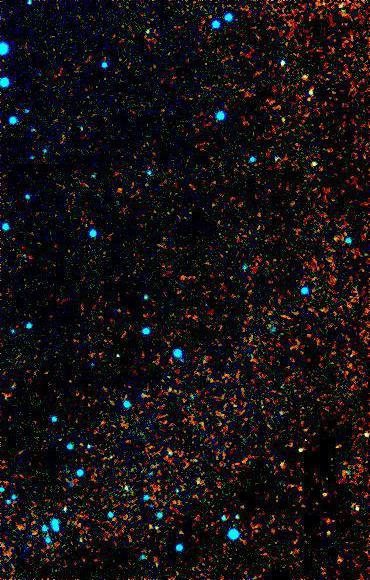star: (137, 516, 167, 546)
